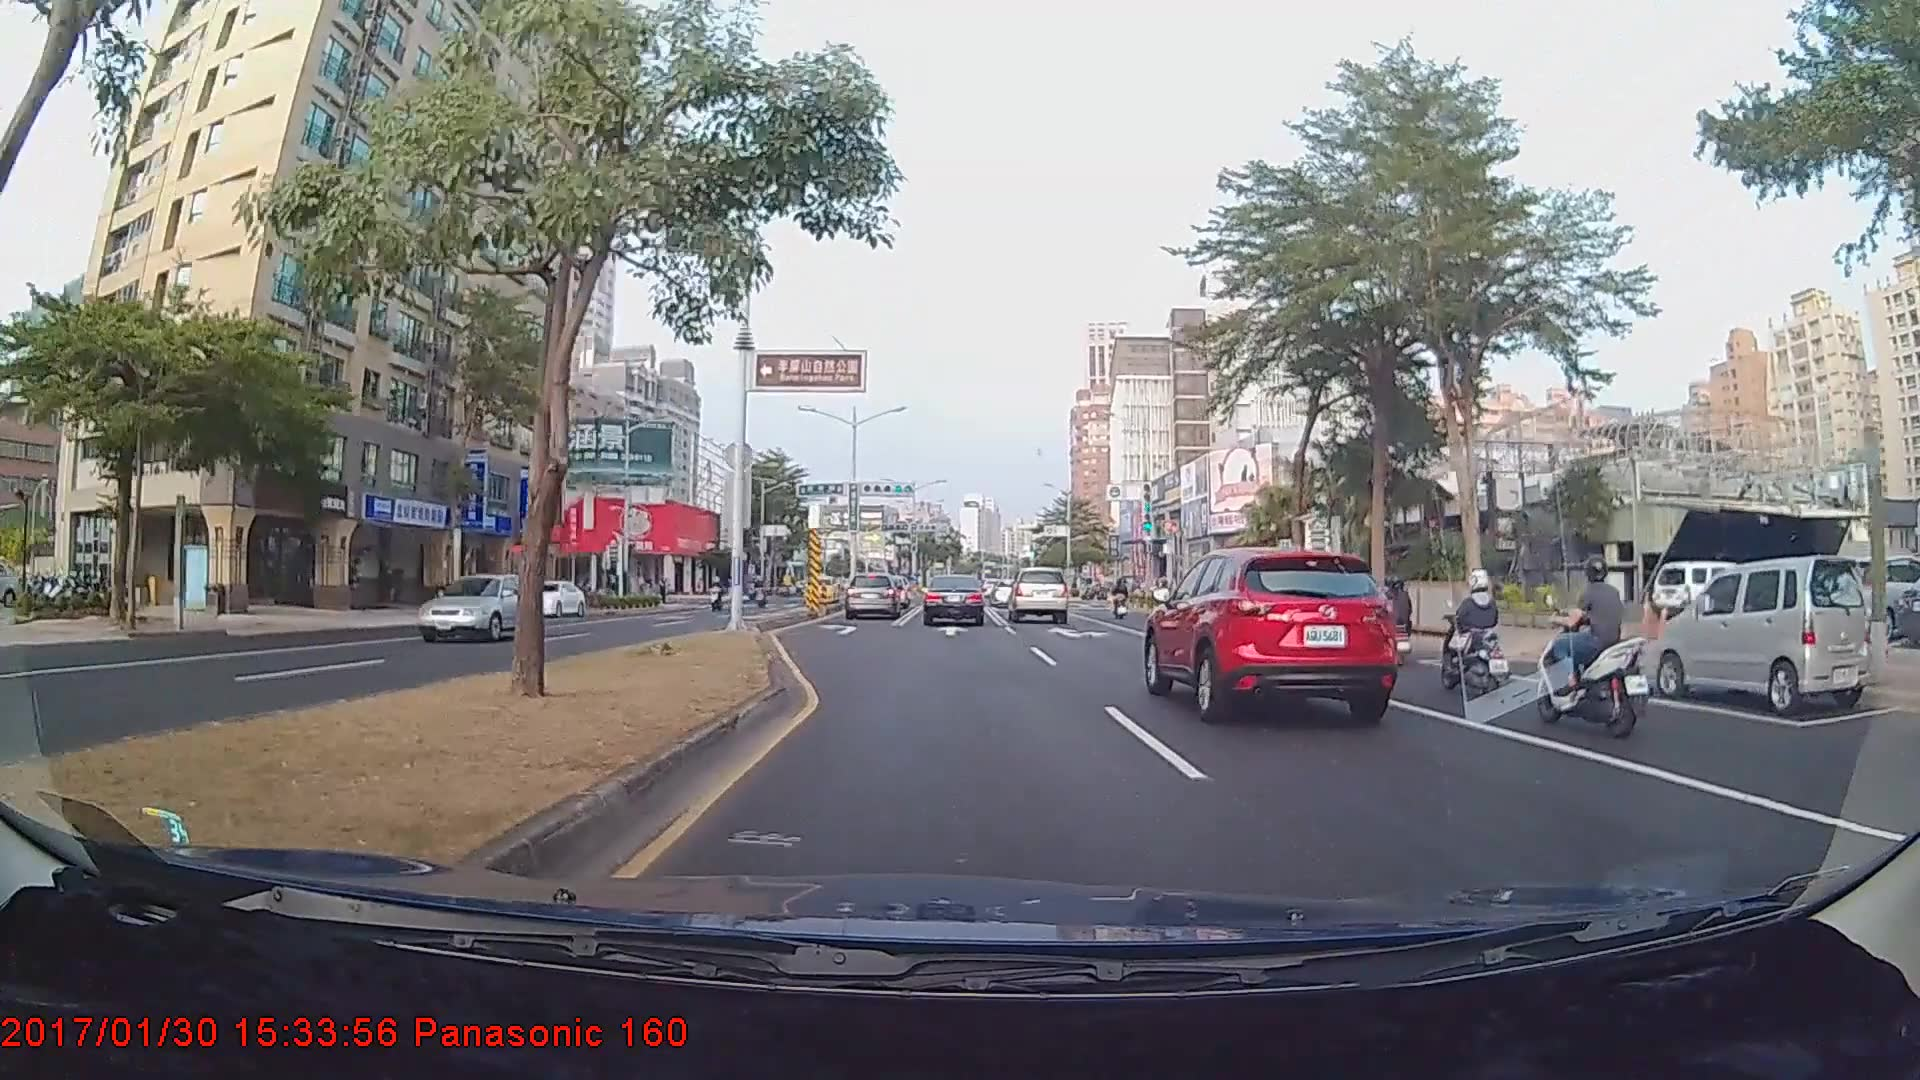rider: (1529, 553, 1653, 739), (1431, 572, 1528, 714), (1367, 576, 1417, 679), (1110, 583, 1136, 627)
vehicle: (1143, 540, 1400, 720), (1668, 553, 1869, 707), (417, 573, 538, 642), (1654, 558, 1748, 620), (1005, 567, 1070, 623), (922, 573, 985, 628), (842, 570, 908, 621), (513, 580, 586, 619)
